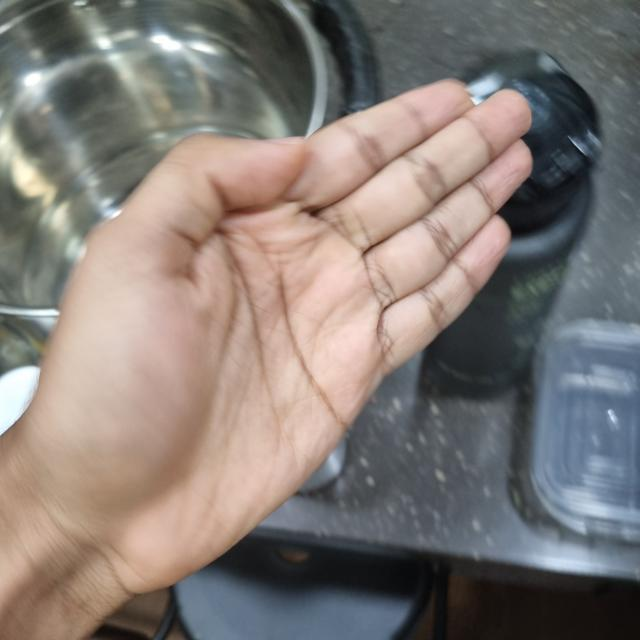Paper: (19, 130, 390, 583)
